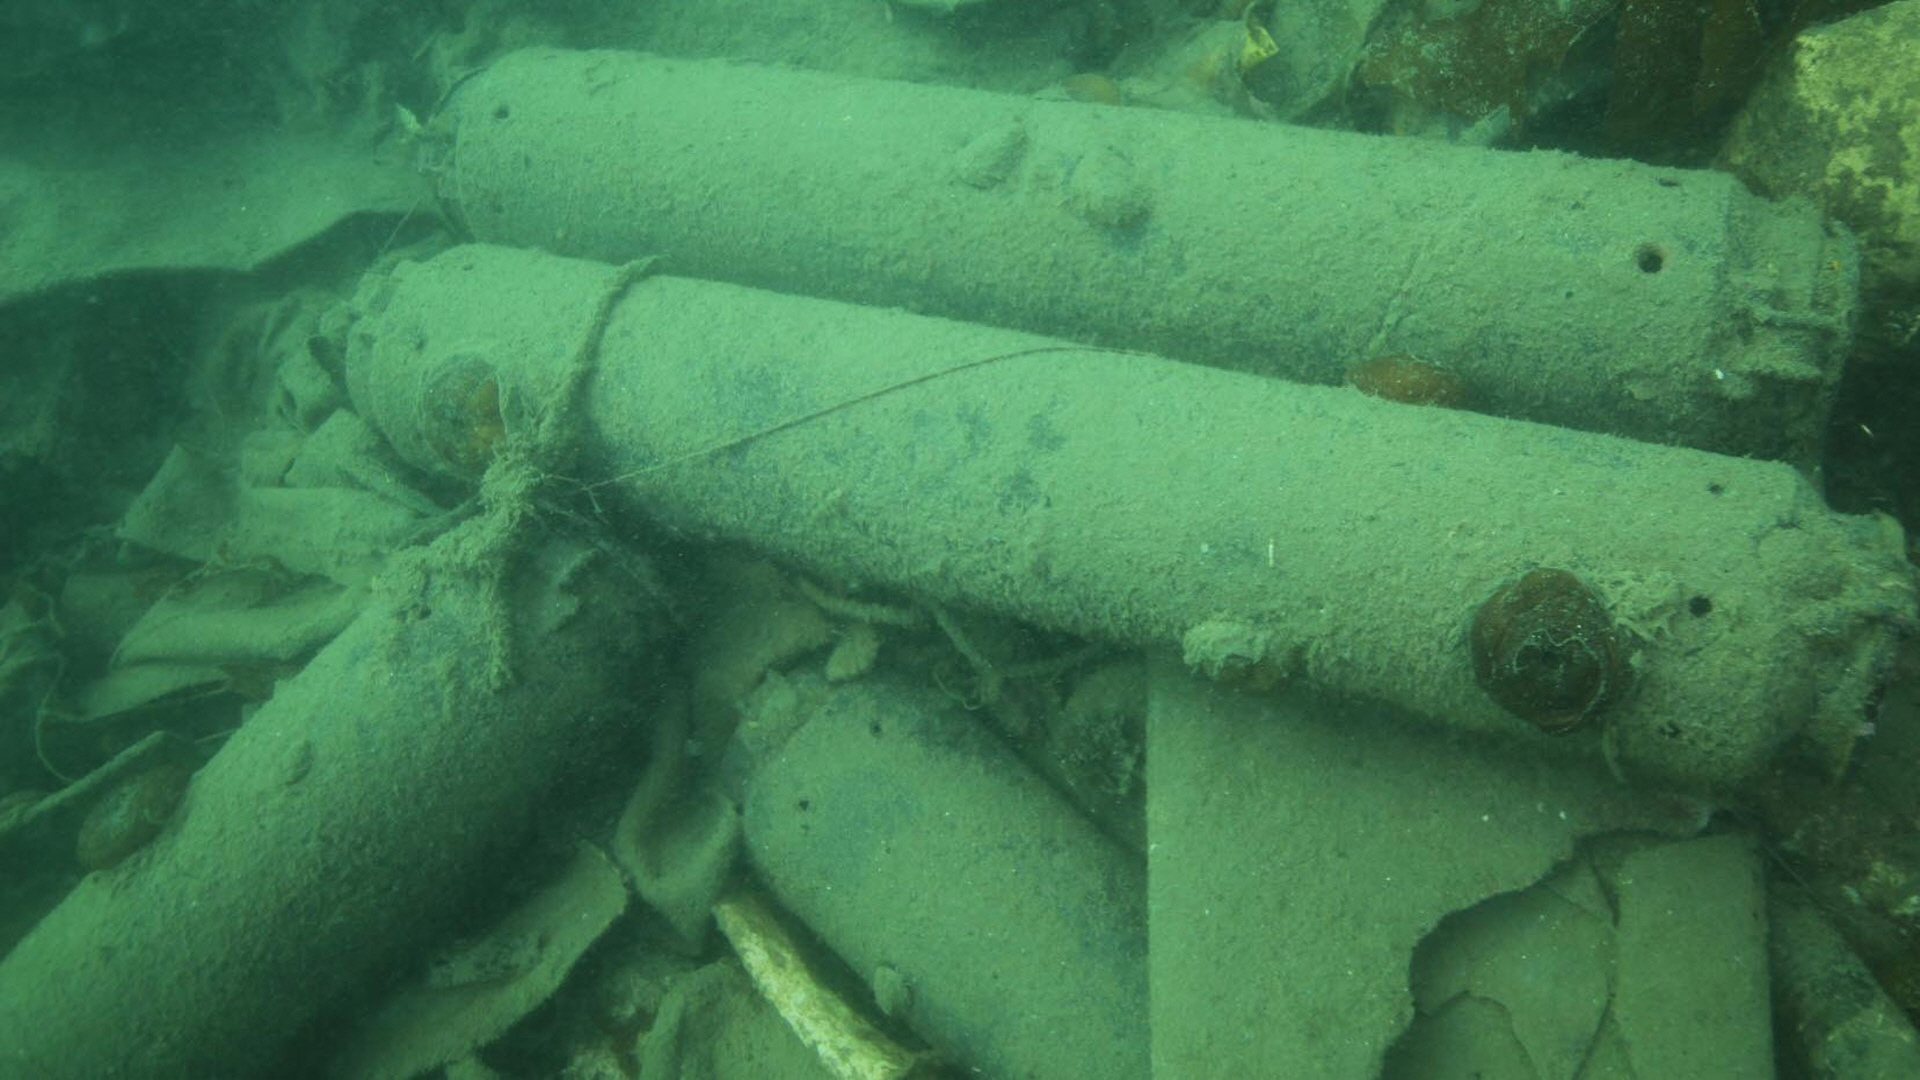bundle of ropes: (381, 239, 692, 696)
eel fish trap: (347, 237, 1909, 782), (419, 37, 1869, 452), (0, 495, 680, 1080)
